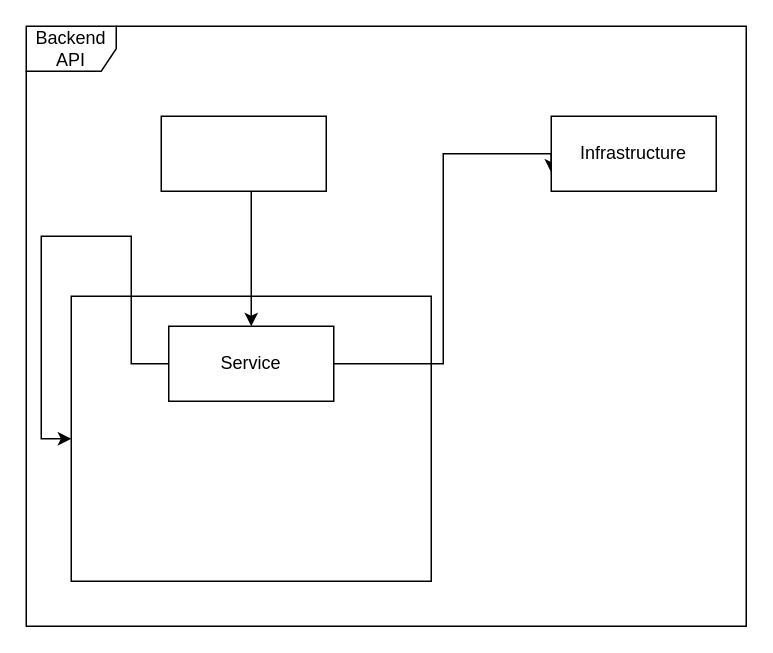
The diagram is 773 pixels wide and 653 high, and some of its shapes have lost their labels. Here are the shapes that lost their labels. From the top down, the box of each, then its label:
(160, 115, 326, 191): Controllers
(70, 295, 431, 581): Domain
